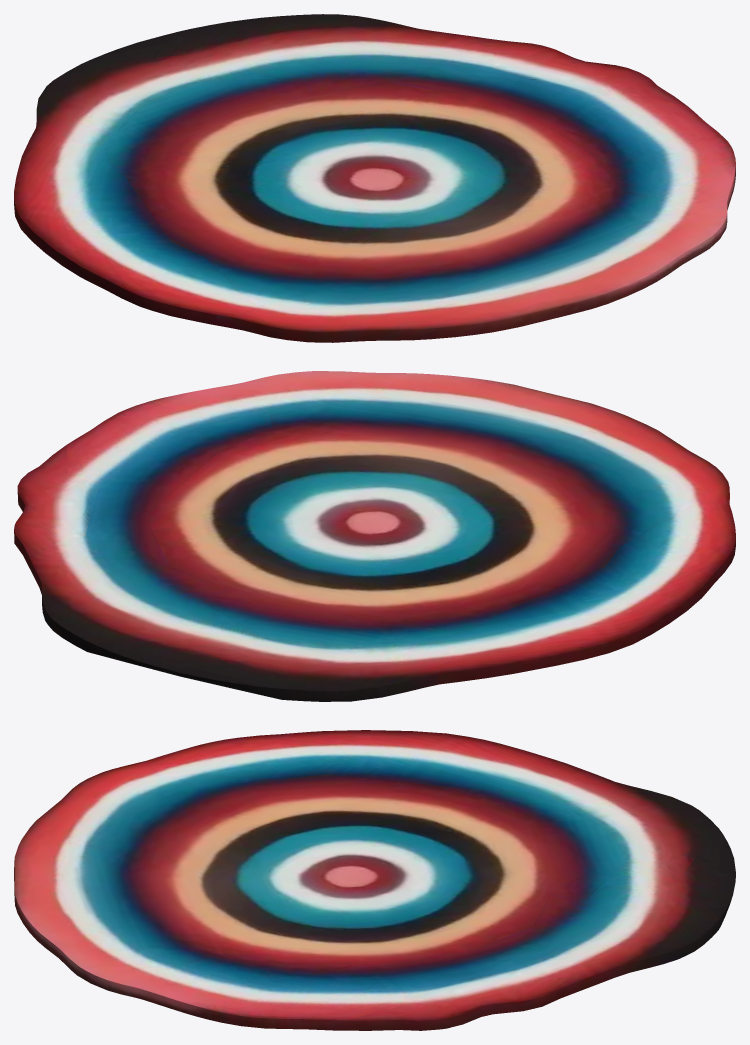
Rendered from m2LandingPadM2.glb.
3 views of the same model, one above another, from view 1: azimuth 30°, elevation 25°; view 2: azimuth 150°, elevation 25°; view 3: azimuth 270°, elevation 25° (orthographic). The views are drawn at different scales.
Parts seen in each view (by area): view 1: model; view 2: model; view 3: model.
Boxes of the visible parts, bbox=[...] form: model: bbox=[14, 14, 735, 342]; model: bbox=[14, 371, 735, 701]; model: bbox=[14, 730, 735, 1030].
Bounding box in the file's own units: 1.8 × 0.0307 × 1.89.
Materials: 1 (1 with a texture image).
